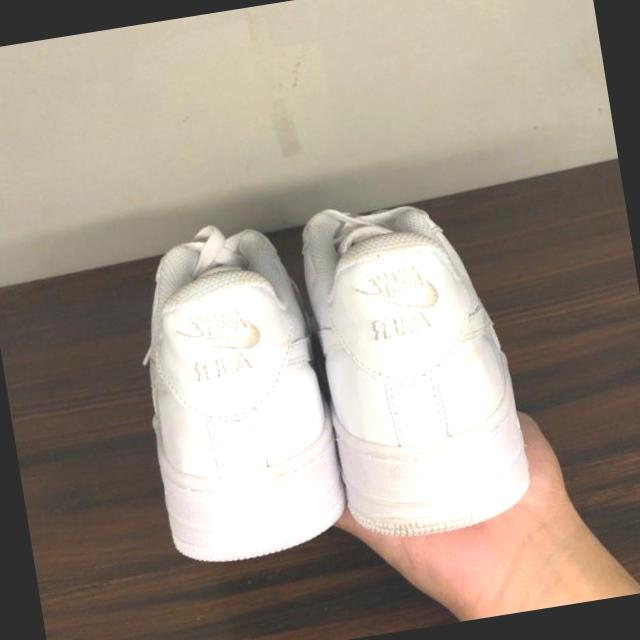nike_fake_airforce: (287, 190, 537, 551), (118, 220, 354, 574)
